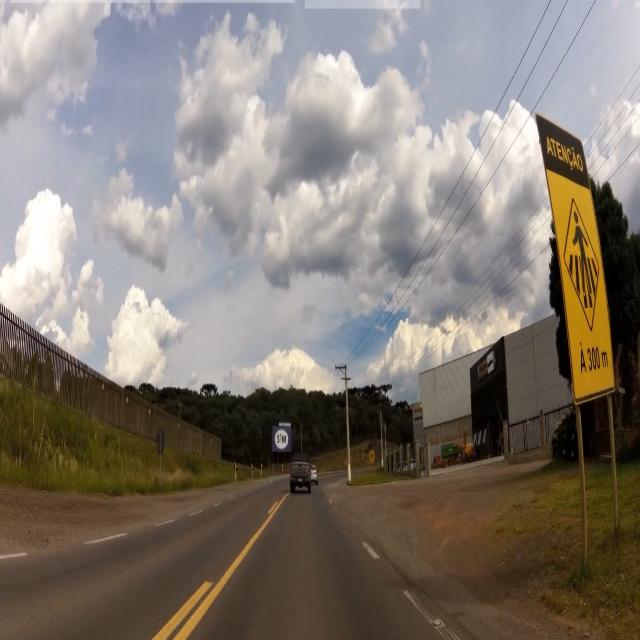A-32b: (556, 186, 608, 335)
